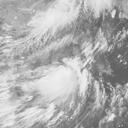cyclone: (31, 40, 92, 105)
